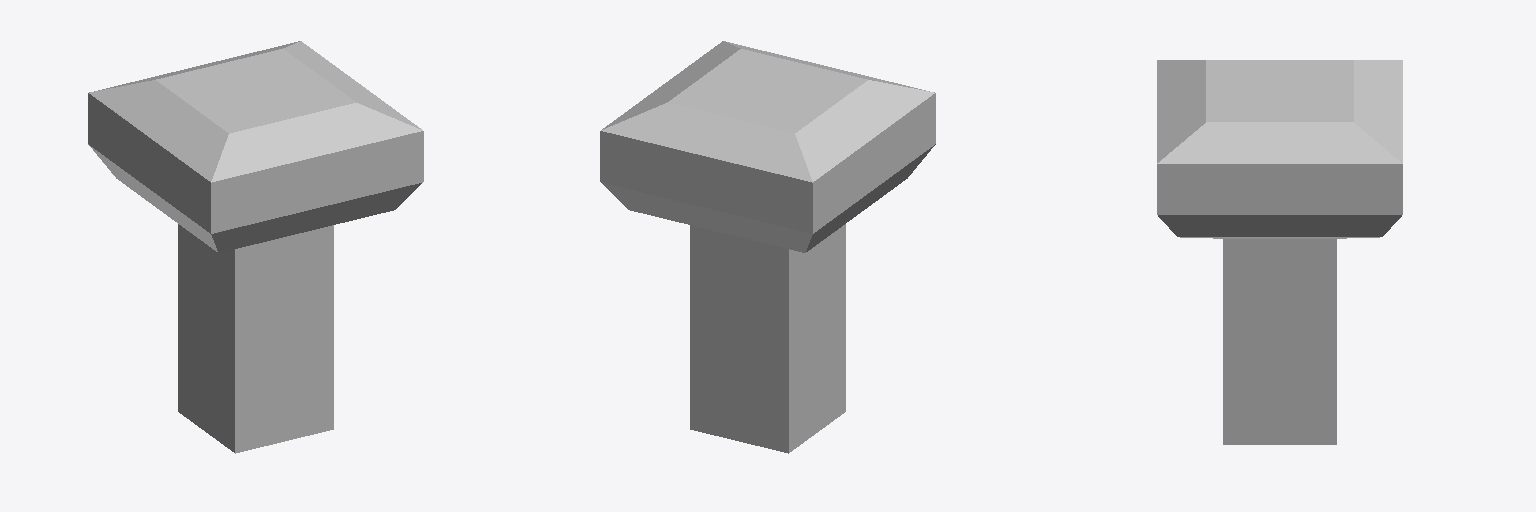
Rendered from mushroom.obj.
The picture shows the model from 3 angles: view 1: azimuth 30°, elevation 25°; view 2: azimuth 150°, elevation 25°; view 3: azimuth 270°, elevation 25°; orthographic projection.
Parts seen in each view (by area): view 1: Cube; view 2: Cube; view 3: Cube.
Boxes of the visible parts, box(x1,y1,x2,y2) form: Cube: box(88, 41, 423, 453); Cube: box(600, 41, 935, 453); Cube: box(1157, 60, 1402, 444).
Size of the model in its own units: 0.216 by 0.32 by 0.216.